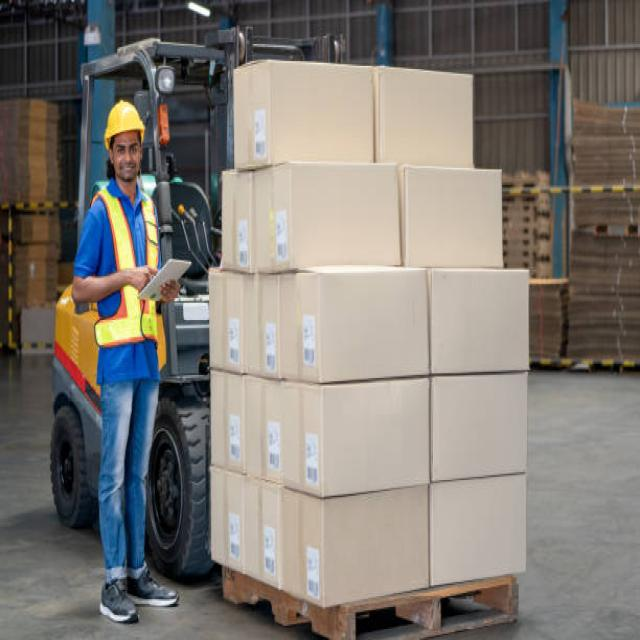Wooden-Pallets: (221, 566, 523, 640)
